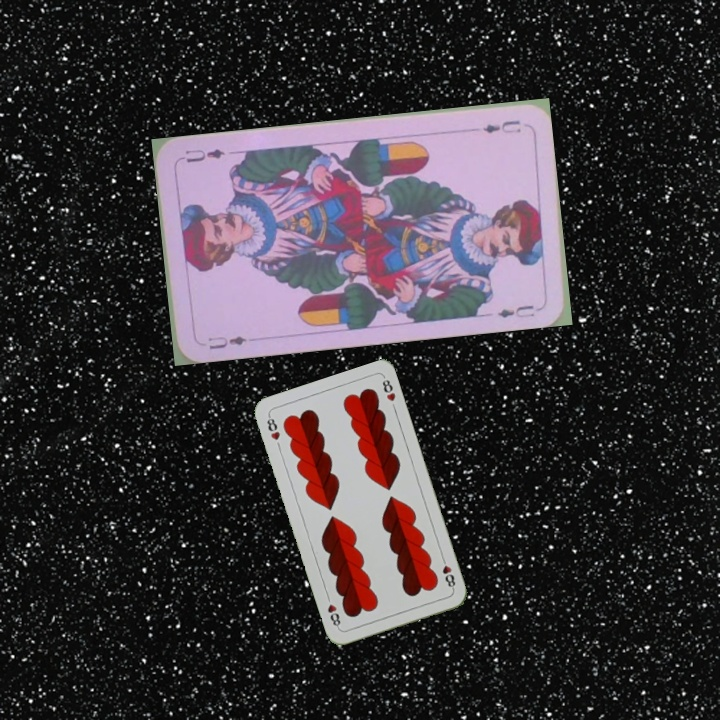EU: (204, 331, 249, 352), (478, 116, 524, 136)
H8: (438, 553, 458, 592), (263, 411, 283, 443)
